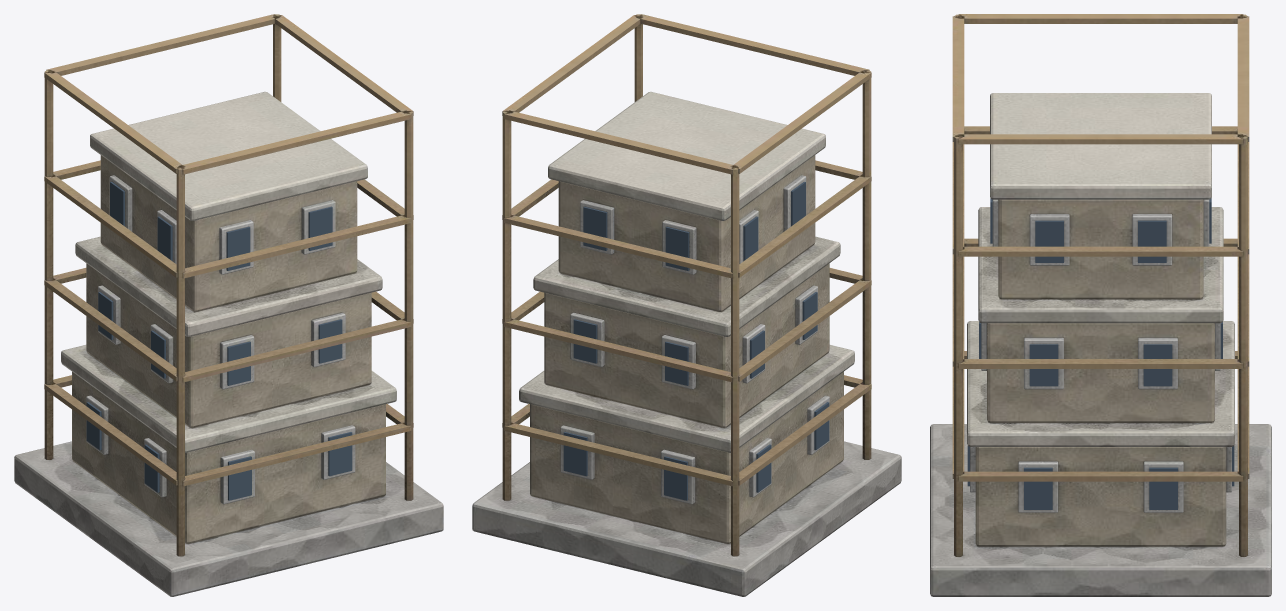
Rendered from jahr3.glb.
3 views of the same model, side by side, from view 1: azimuth 30°, elevation 25°; view 2: azimuth 150°, elevation 25°; view 3: azimuth 270°, elevation 25° (orthographic). The views are drawn at different scales.
Visible parts, largest first — view 1: jahr3, jahr3_details; view 2: jahr3, jahr3_details; view 3: jahr3, jahr3_details.
Boxes of the visible parts, x1,y1,x2,y2 form: jahr3: (14,14,443,596); jahr3_details: (86,182,352,500); jahr3: (472,14,901,596); jahr3_details: (563,182,829,500); jahr3: (930,14,1271,596); jahr3_details: (967,198,1234,509).
Size of the model in its own units: 0.6 by 0.87 by 0.6.
2 materials, 1 textured.
